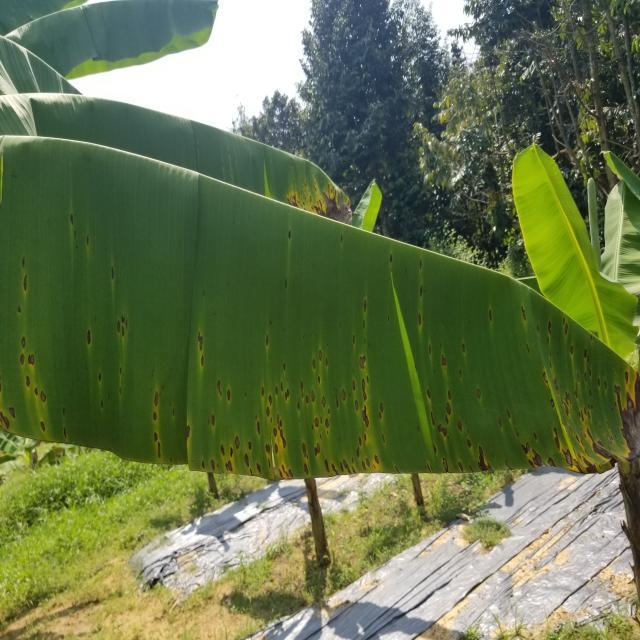Early_rust: (0, 99, 640, 556)
